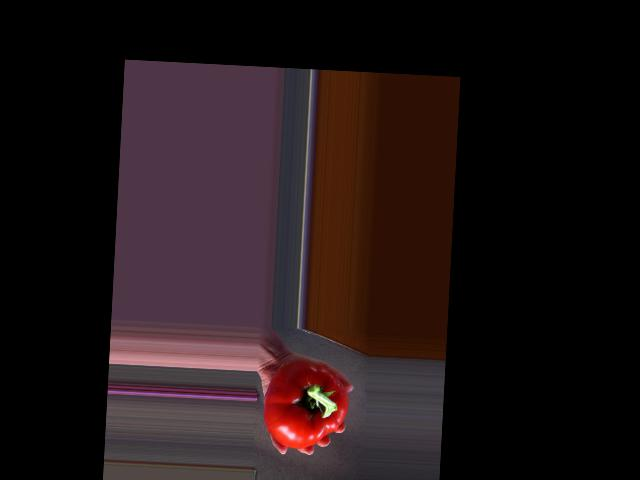tomato: (261, 359, 350, 451)
